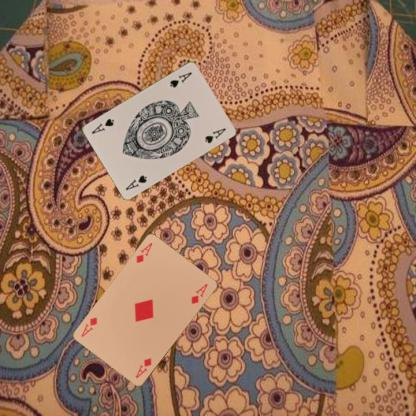Ad: (134, 240, 154, 265), (133, 355, 152, 380)
As: (122, 172, 148, 191), (167, 70, 193, 88)
